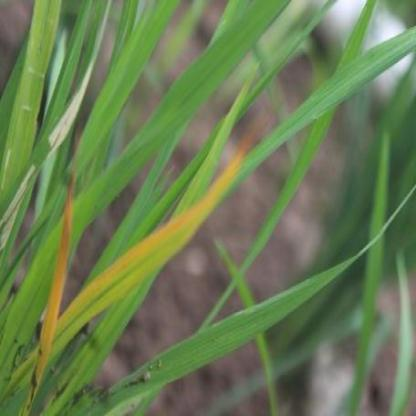Tungro: (44, 121, 262, 374), (14, 137, 82, 416)
